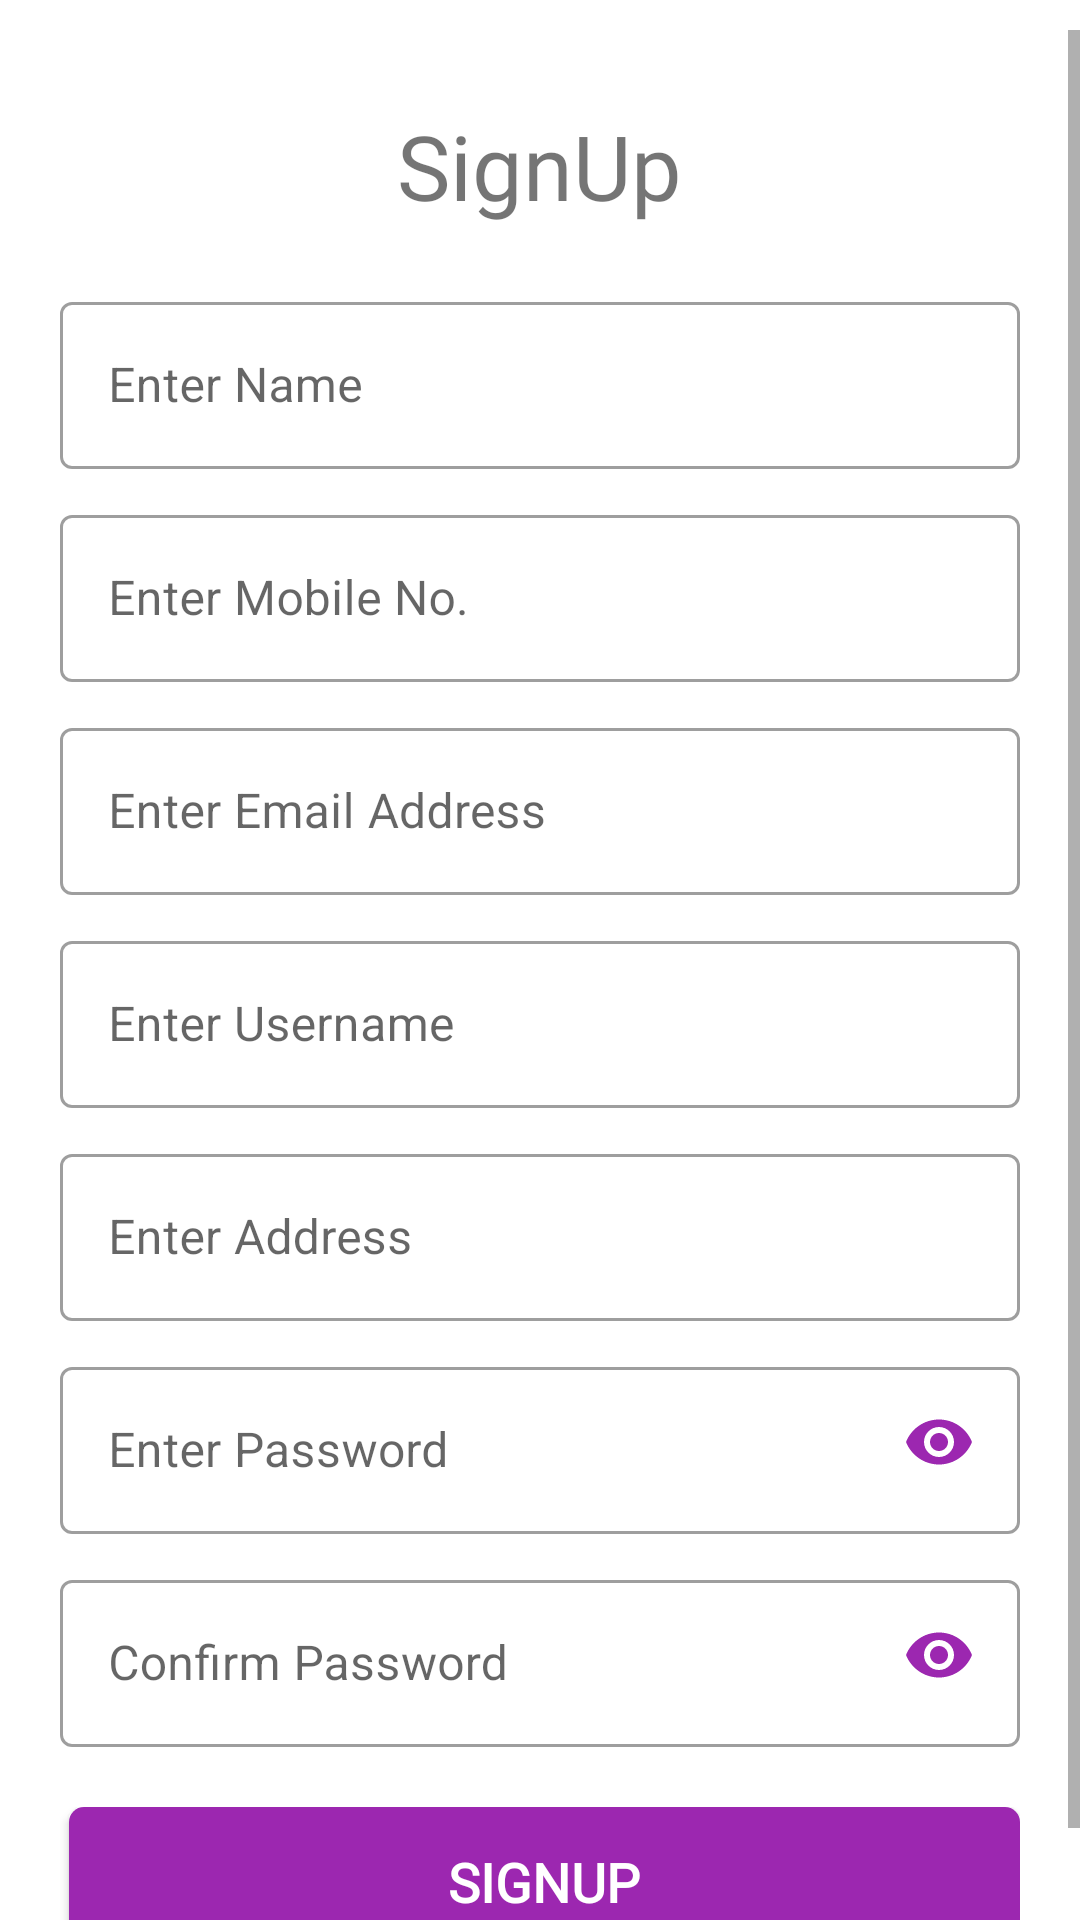

Icon click points for this 1080*1920 phone screenshot, format [x,y]:
remove eye: [939,1442], [939,1655]
